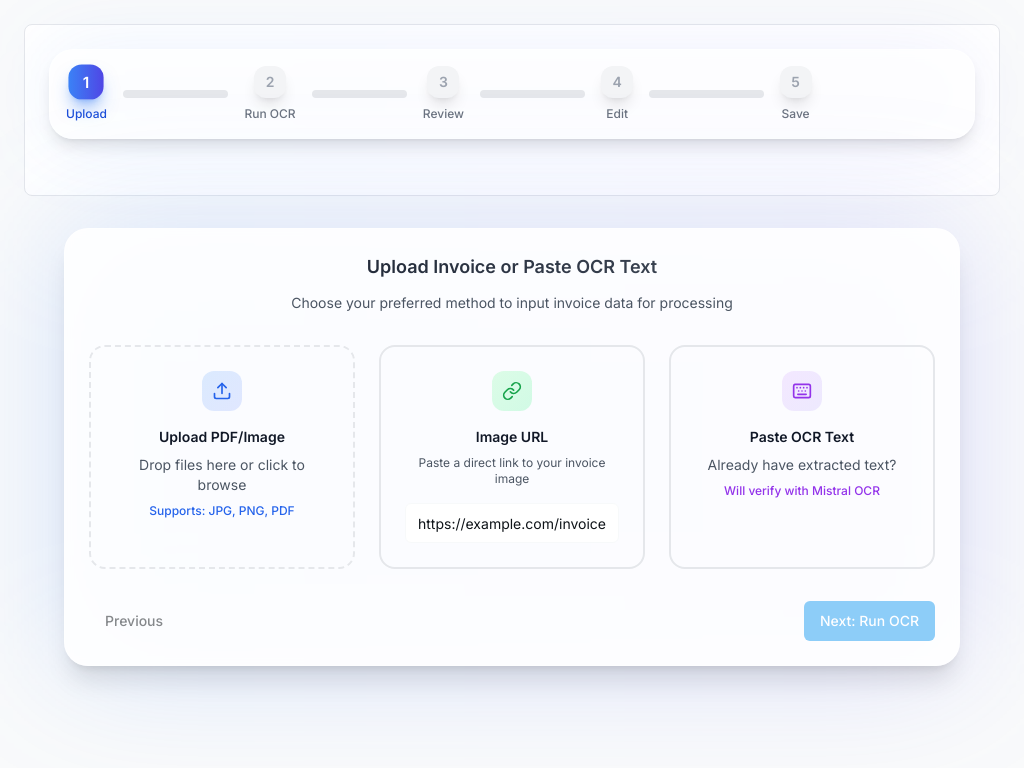
InvoiceWizard › should enable next button when valid input is provided
The width and height of the screenshot is (1024, 768).
Note: Click URL option and enter URL
Click the text "Image URL" at (512, 457), box [379,345,645,569]
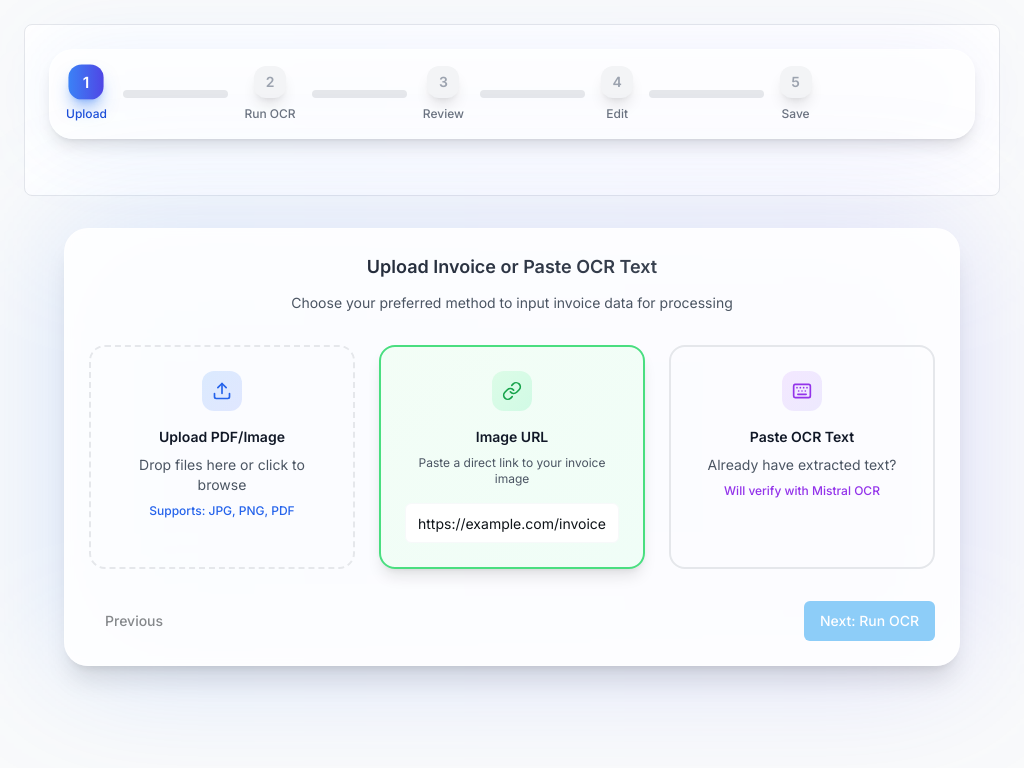
Type "https://example.com/test.jpg" into the field with placeholder "https://example.com/invoice.jpg" at (512, 523), box [405,503,619,543]
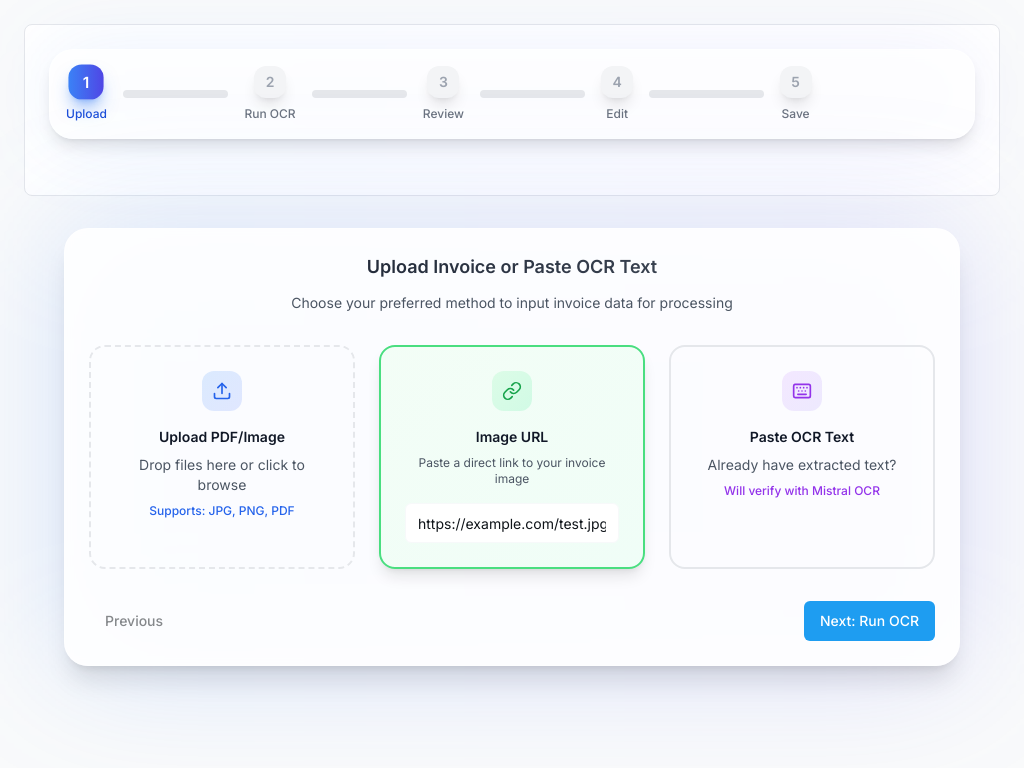
expect the button "Next: Run OCR" is enabled: met, box [804,601,935,641]
